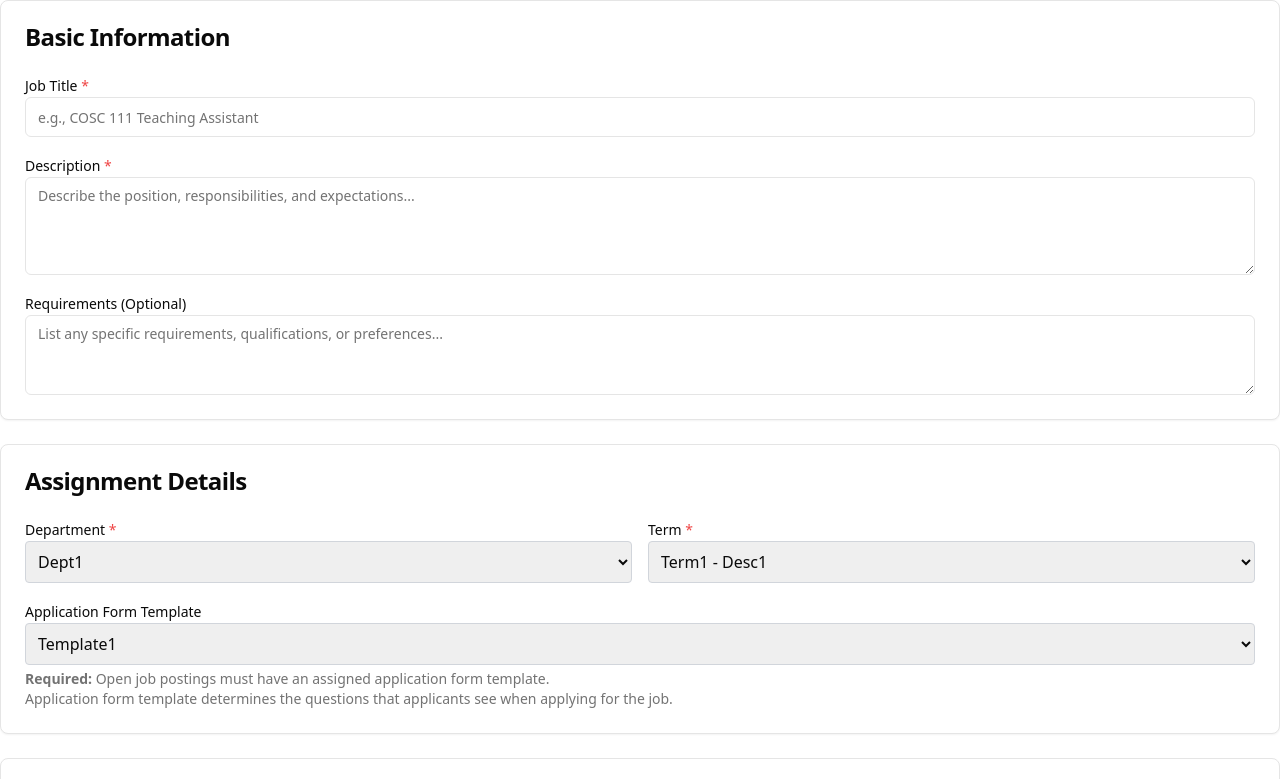
JobPostingForm › displays caution message when changing application form template on open job posting
Select "Template2" in the dropdown labelled "Application Form Template". click: (640, 644)
box: [25,623,1255,665]
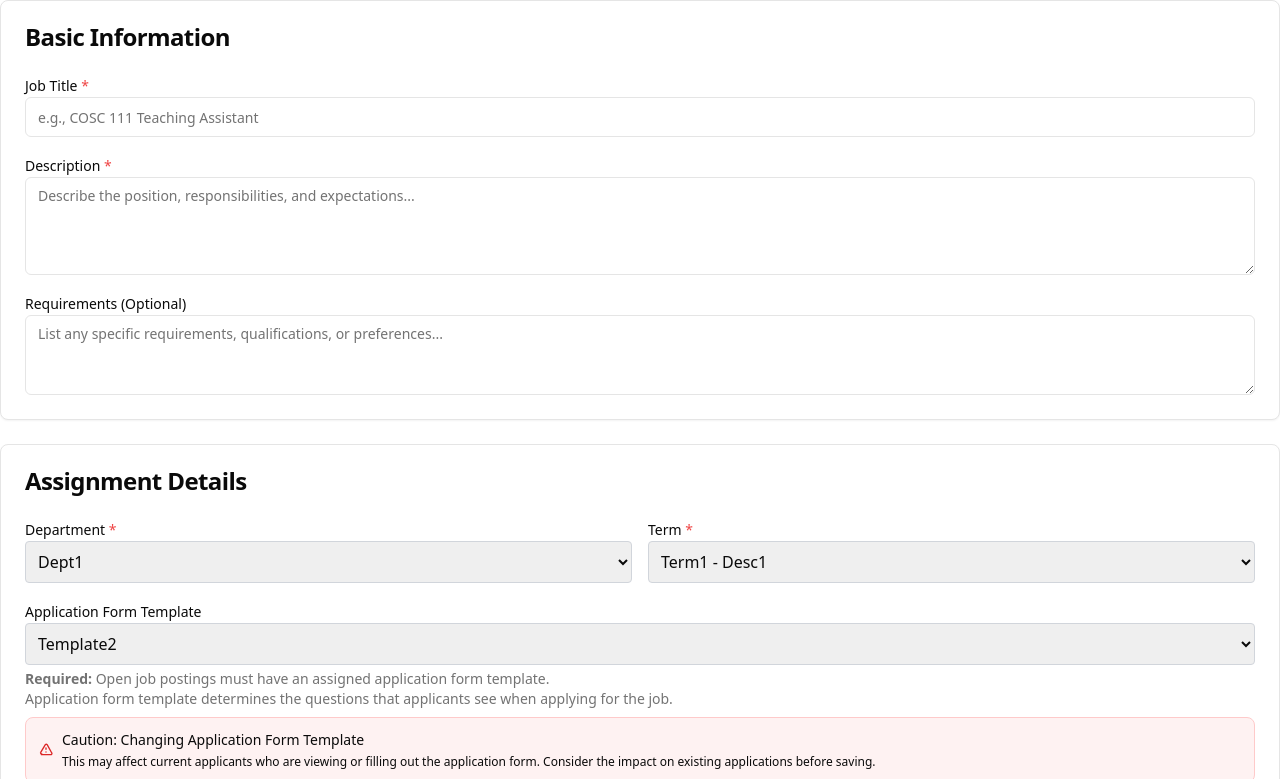
Now the text "Caution: Changing Application Form Template" is shown, box [62,730,364,749]
